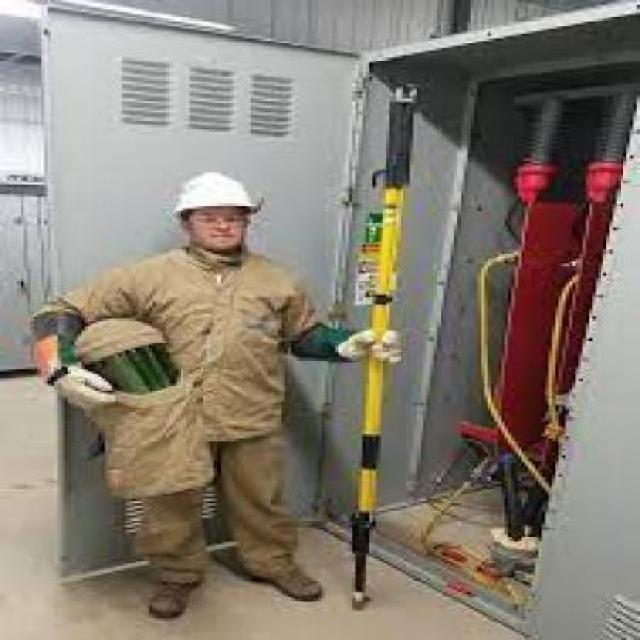boots: (251, 563, 321, 601), (148, 578, 202, 618)
gloves: (335, 328, 401, 364)
hard-hat: (73, 317, 175, 394), (173, 170, 259, 217)
person: (30, 170, 410, 628)
ppe-suit: (30, 242, 322, 594)
